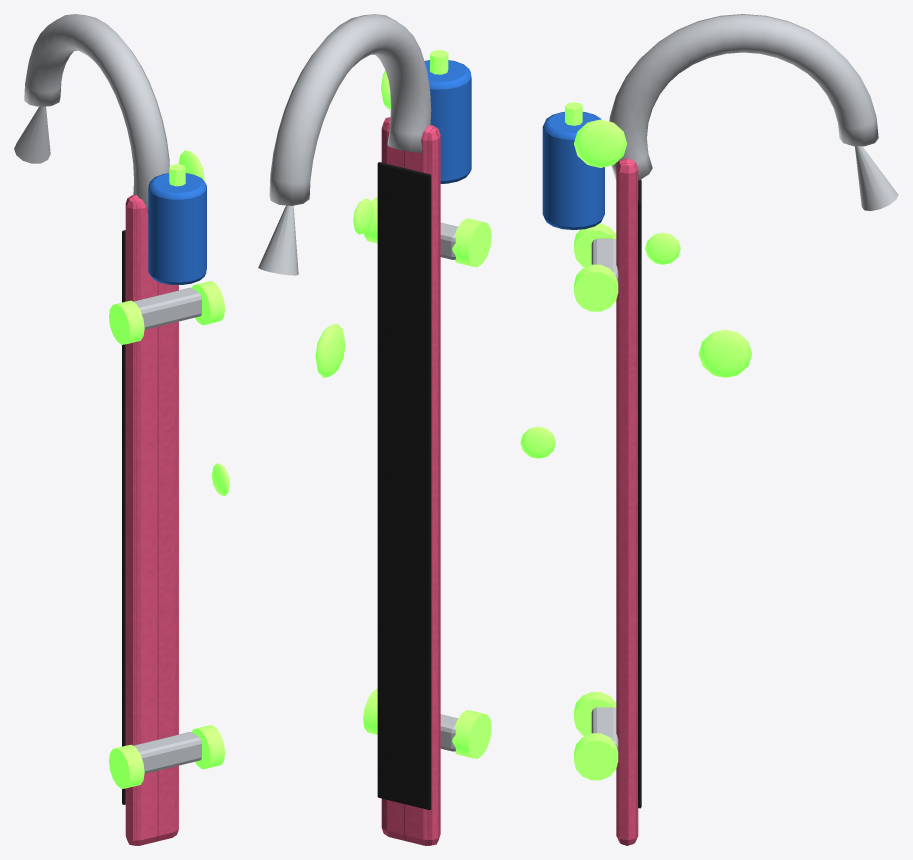
The model's file is pickaxe_spray_hook.glb.
The picture shows the model from 3 angles, left to right: view 1: azimuth 30°, elevation 25°; view 2: azimuth 150°, elevation 25°; view 3: azimuth 270°, elevation 25°; orthographic projection. The views are drawn at different scales.
Visible parts, largest first — view 1: pickaxe_spray_hook; view 2: pickaxe_spray_hook; view 3: pickaxe_spray_hook.
Part boxes in pixels (x1,y1,x2,y2): pickaxe_spray_hook: [14, 14, 229, 845]; pickaxe_spray_hook: [258, 14, 491, 845]; pickaxe_spray_hook: [520, 14, 898, 845].
Size of the model in its own units: 0.13 by 1.02 by 0.4244.
5 materials, 2 textured.
